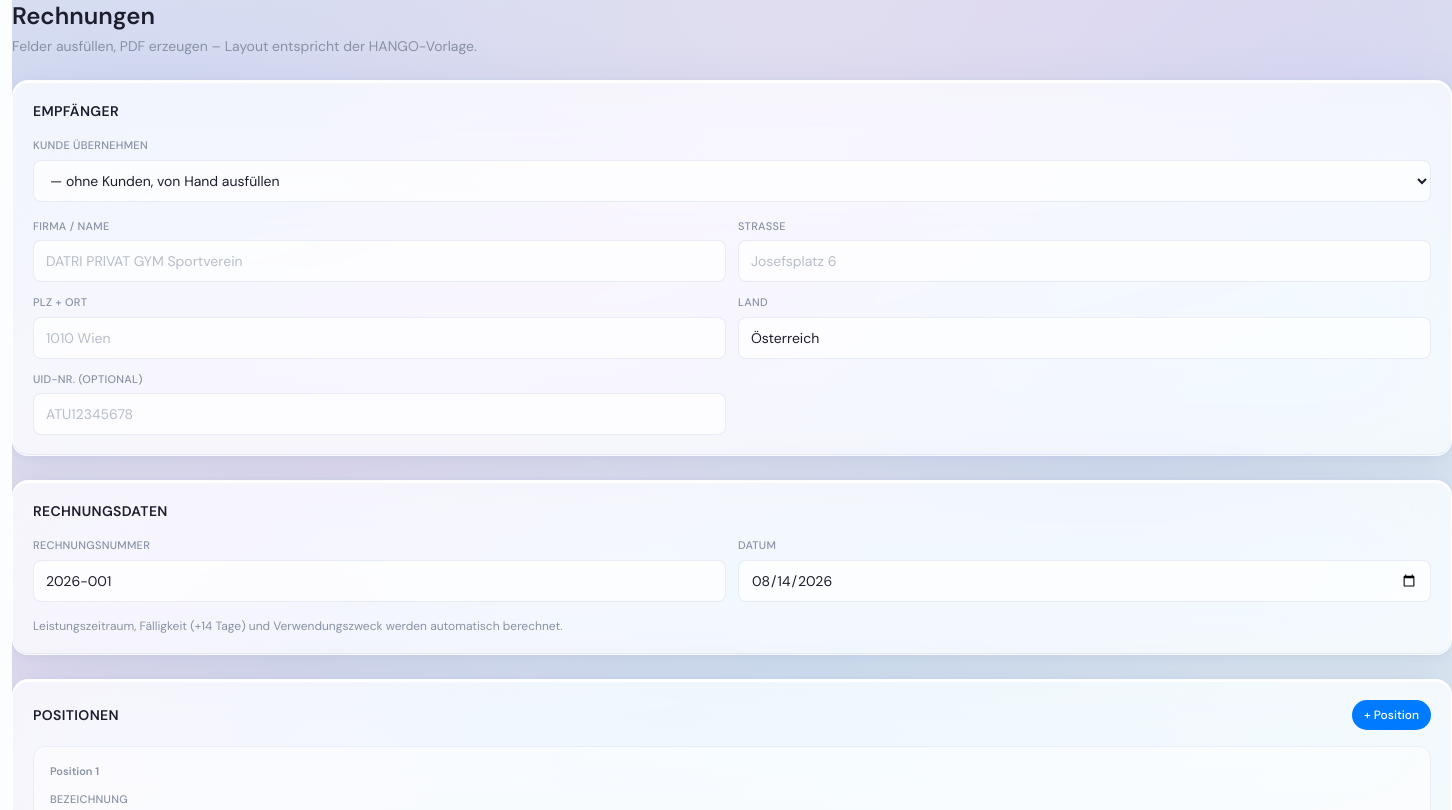
Test: InvoicesPage › nimmt weitere Positionen auf
Click the button "+ Position" at {"x": 1392, "y": 714}, box [1352,700,1431,730]
(page scrolled)
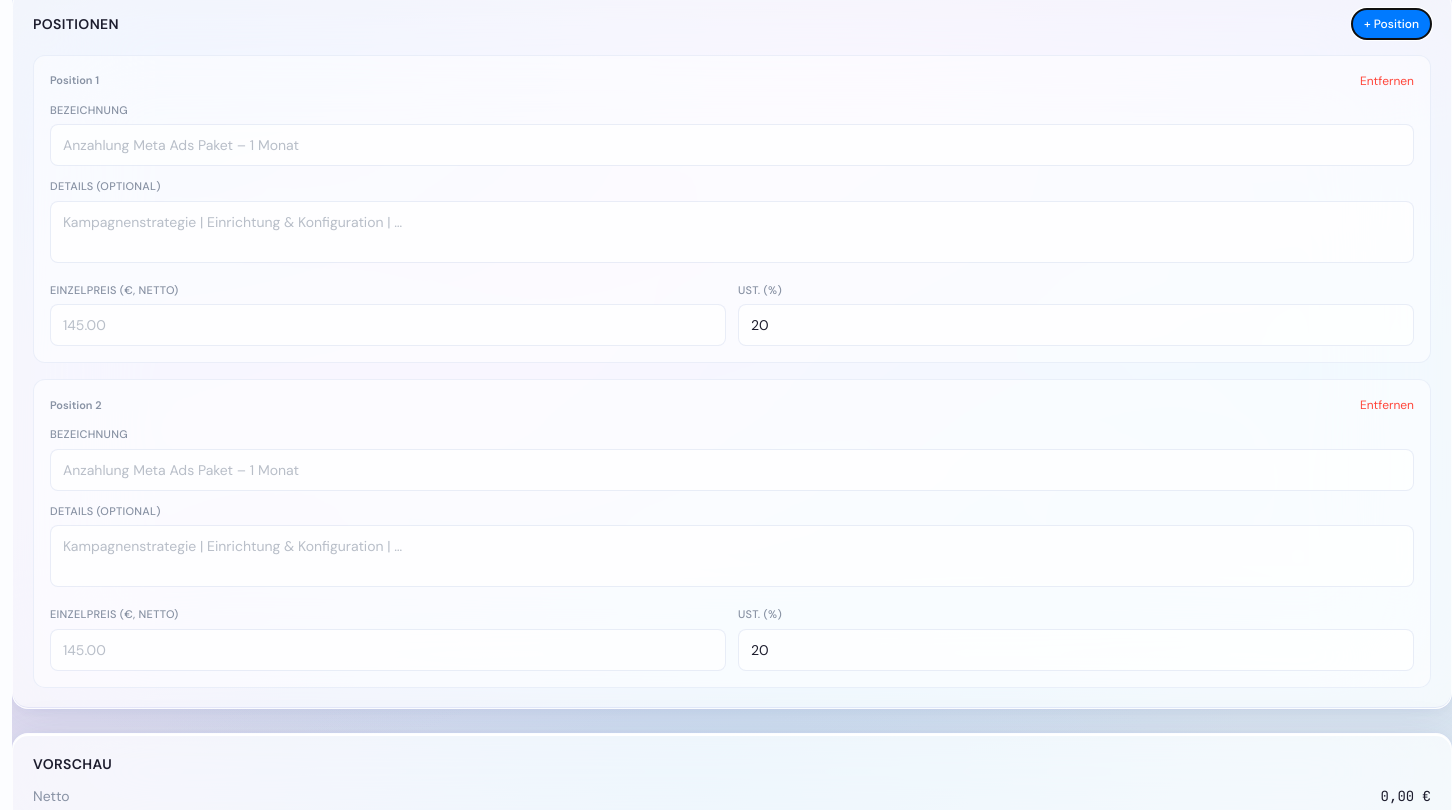
Check: the text "Position 2" is shown, box [50,397,102,413]
